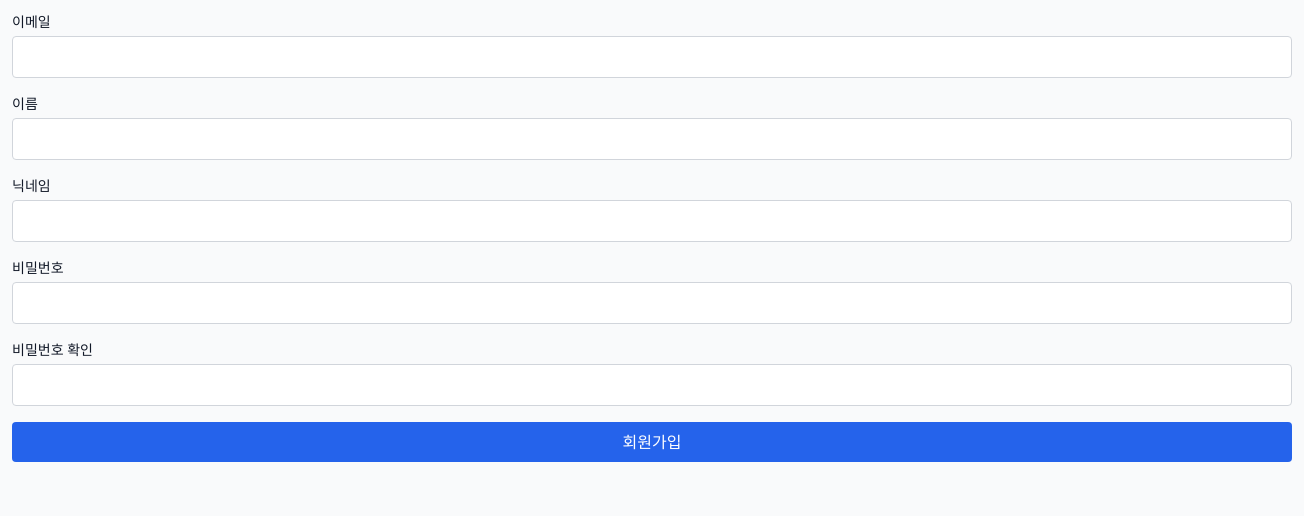
it: SignupForm › 비밀번호 확인 불일치면 검증 오류
Type "new@learnkk.local" into the field with test id "signup-email" at {"x": 652, "y": 57}, box [12, 36, 1292, 78]
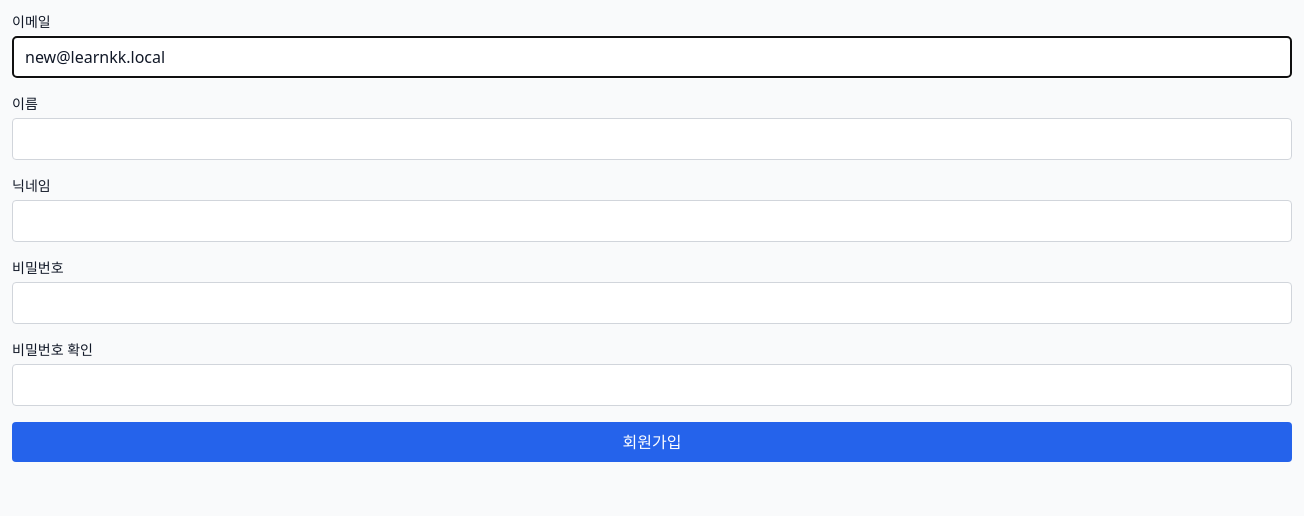
Type "홍길동" into the field with test id "signup-name" at {"x": 652, "y": 139}, box [12, 118, 1292, 160]
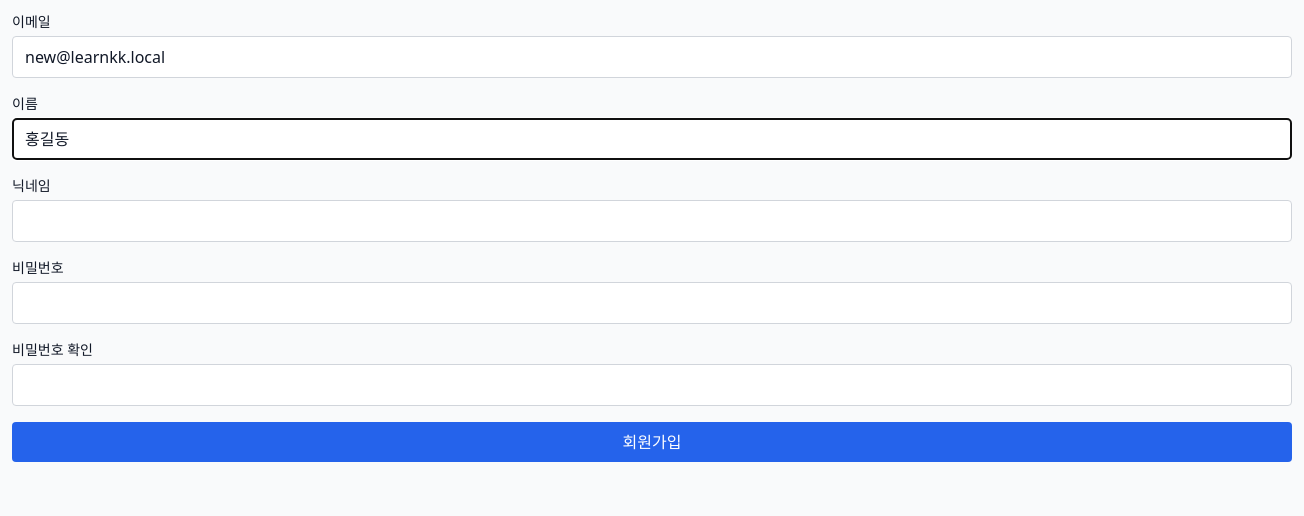
Type "gil" into the field with test id "signup-nickname" at {"x": 652, "y": 221}, box [12, 200, 1292, 242]
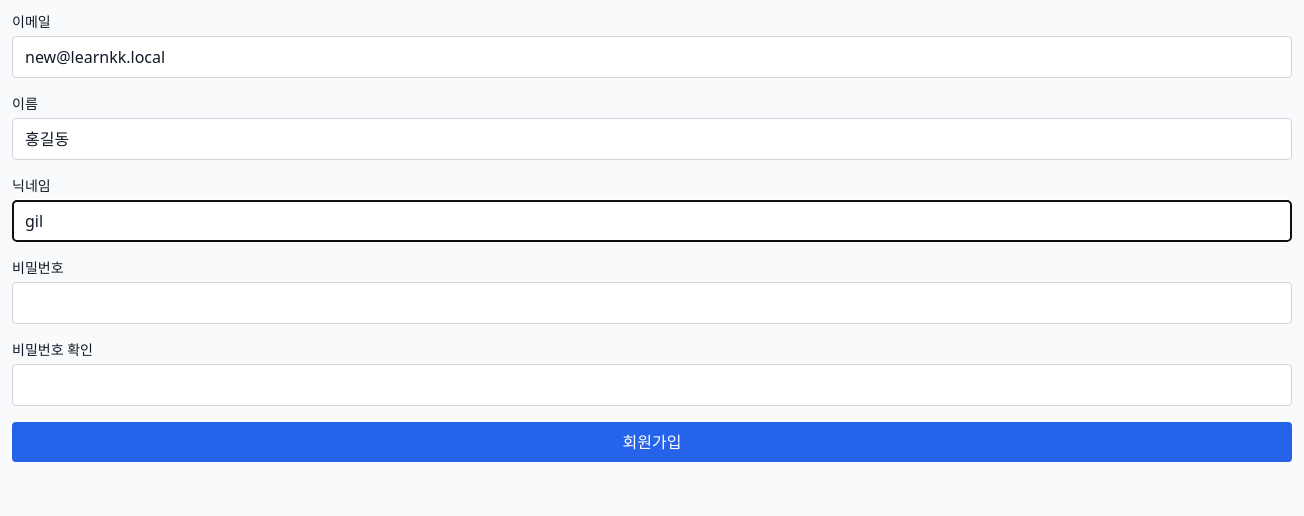
Type "password123" into the password field with test id "signup-password" at {"x": 652, "y": 303}, box [12, 282, 1292, 324]
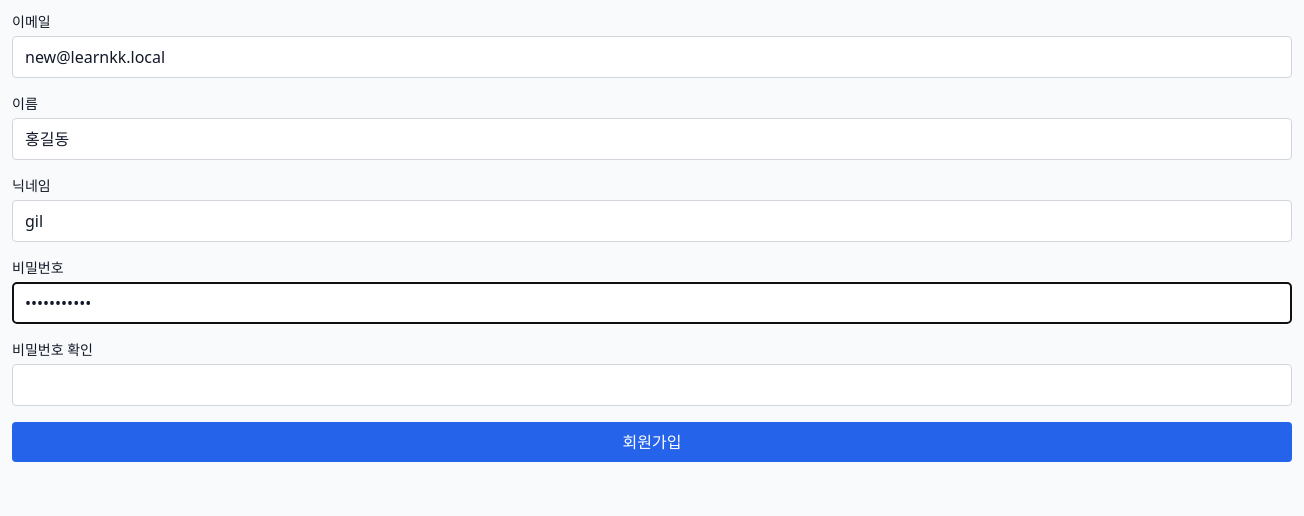
Type "password999" into the password field with test id "signup-password-confirm" at {"x": 652, "y": 385}, box [12, 364, 1292, 406]
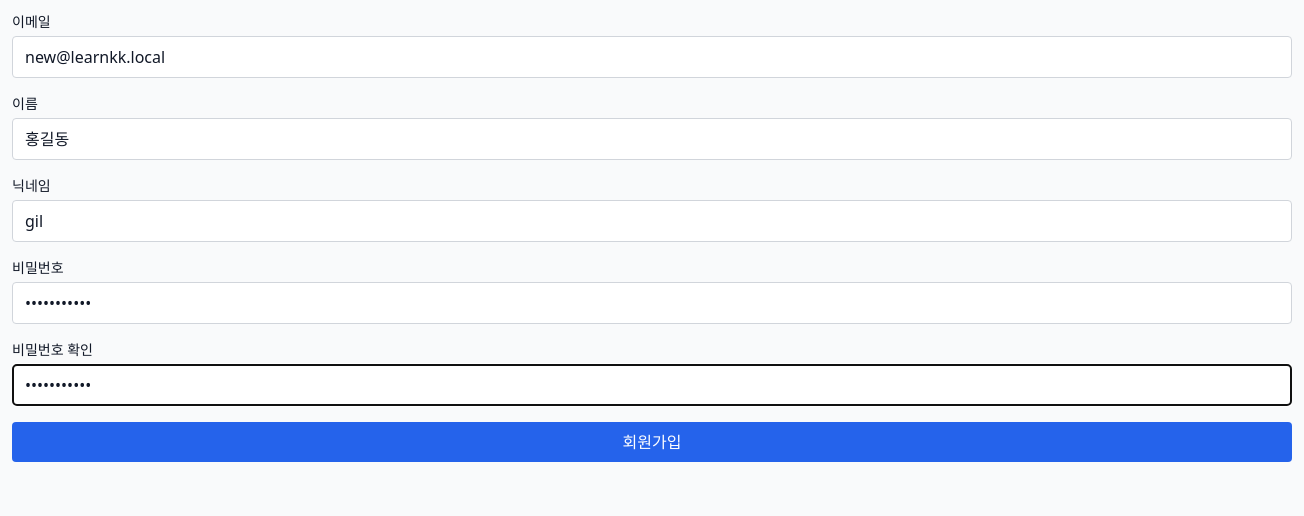
Click the button with test id "signup-submit" at {"x": 652, "y": 442}, box [12, 422, 1292, 462]
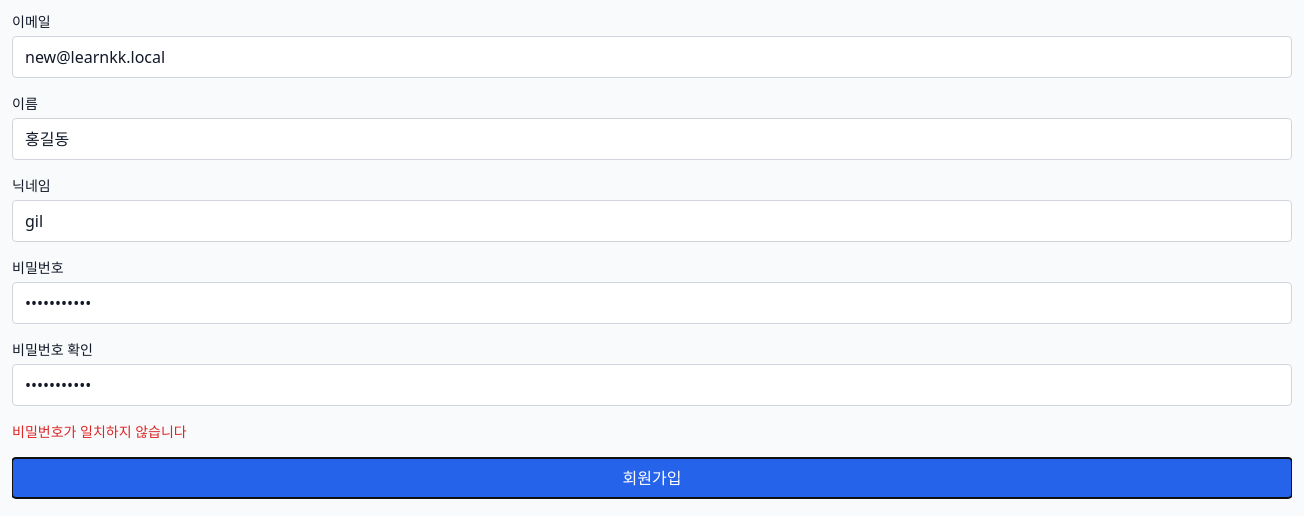
Result: the message with test id "signup-error" shows "일치하지 않습니다" at [12, 422, 187, 441]
